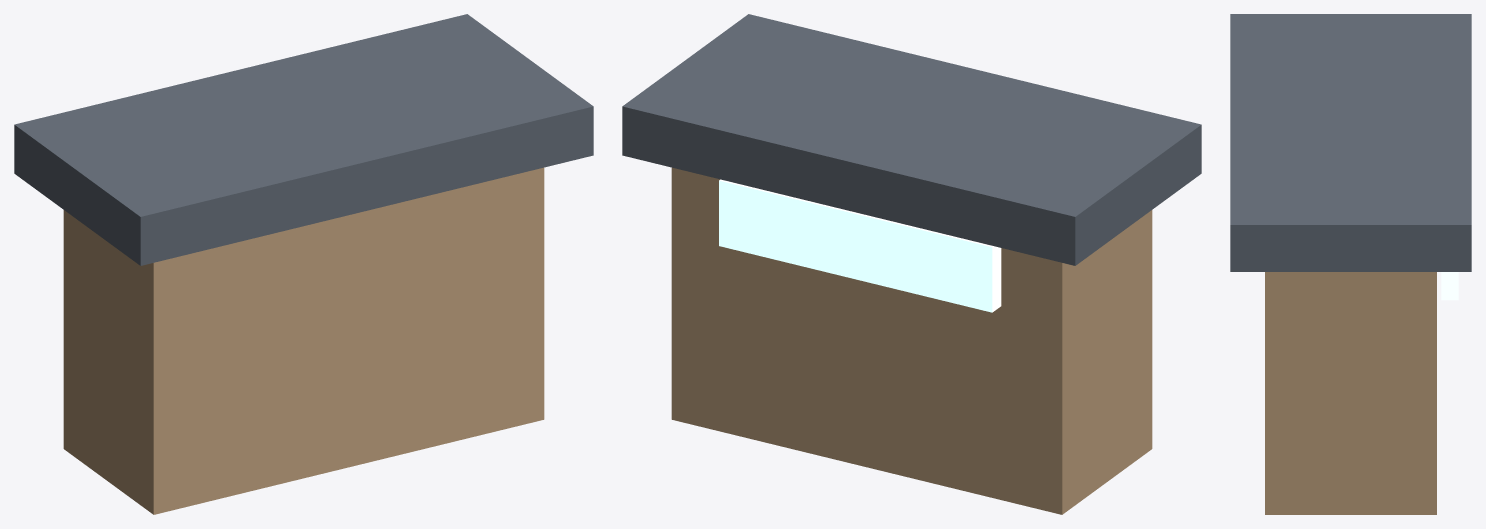
File: tablon_contratos.glb
3 renders of one model, left to right at view 1: azimuth 30°, elevation 25°; view 2: azimuth 150°, elevation 25°; view 3: azimuth 270°, elevation 25°, orthographic. The views are drawn at different scales.
Visible parts, largest first — view 1: estructura, techo; view 2: estructura, techo, cartel; view 3: techo, estructura, cartel.
Boxes of the visible parts, <box> form: estructura: <box>63,167,544,514</box>; techo: <box>14,14,593,265</box>; estructura: <box>671,167,1152,514</box>; techo: <box>622,14,1201,265</box>; cartel: <box>719,179,1001,312</box>; techo: <box>1230,14,1471,271</box>; estructura: <box>1265,272,1436,514</box>; cartel: <box>1441,272,1458,300</box>.
Bounding box in the file's own units: 0.9 × 0.6052 × 0.4345.
